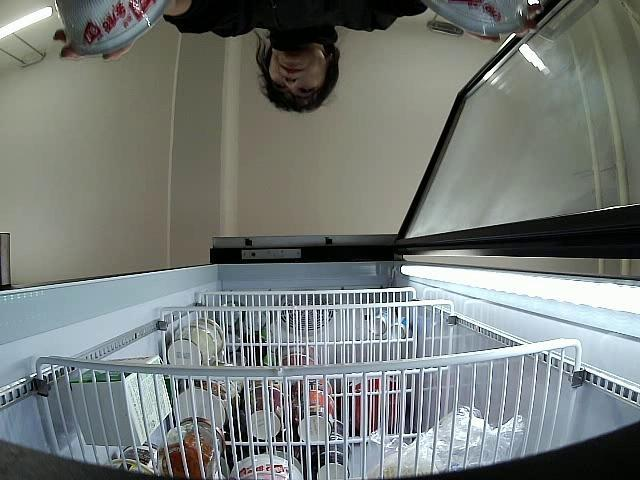09_yukGaeJang: (56, 0, 162, 53), (412, 0, 532, 35)
